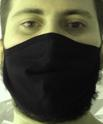with_mask: (1, 1, 103, 124)
